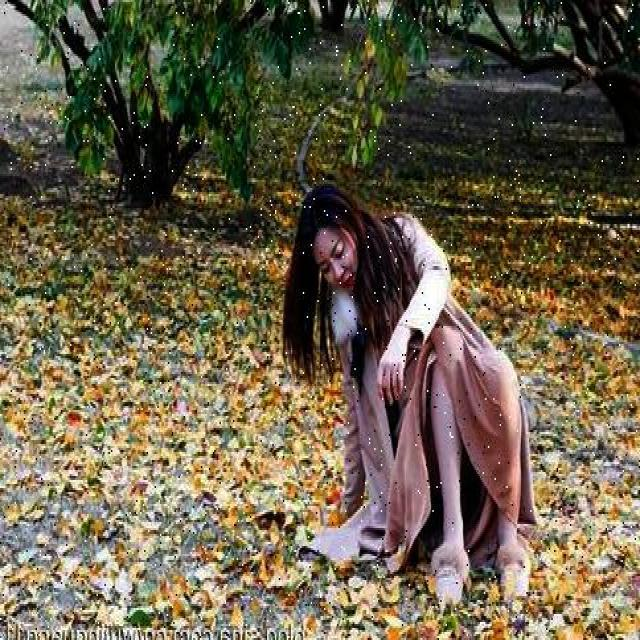fall: (298, 188, 526, 592)
